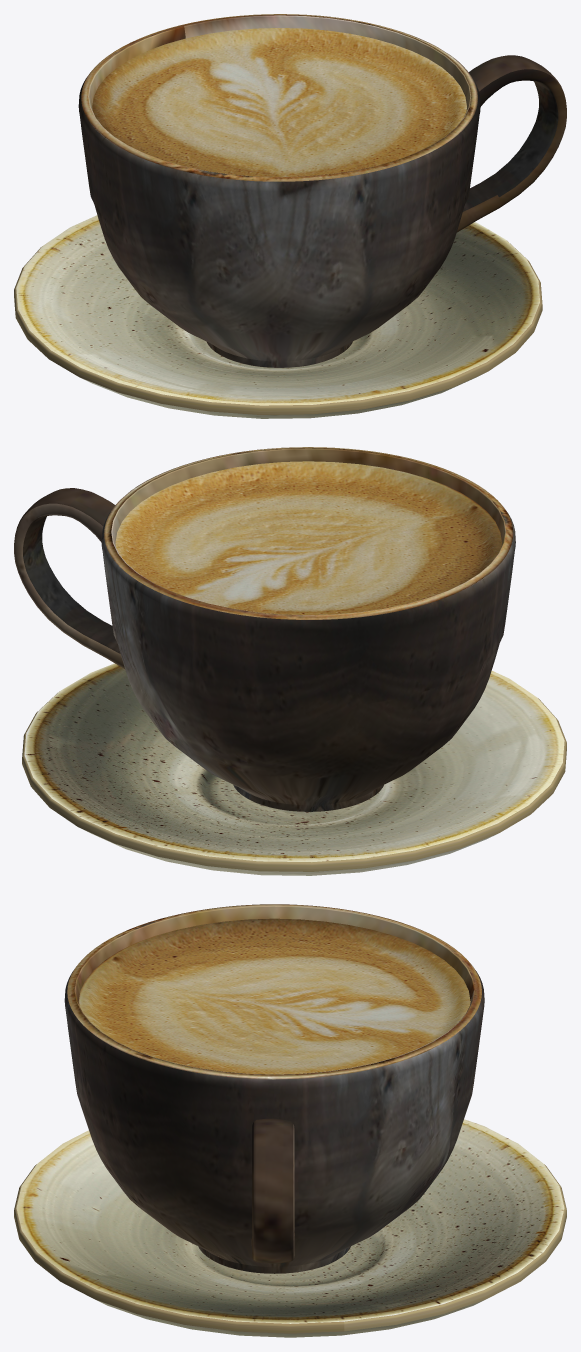
File: latte-sketchfab.glb
3 views of the same model, one above another, from view 1: azimuth 30°, elevation 25°; view 2: azimuth 150°, elevation 25°; view 3: azimuth 270°, elevation 25° (orthographic). The views are drawn at different scales.
Parts seen in each view (by area): view 1: pCylinder5, pCylinder4, AM108_set_10_07; view 2: pCylinder5, pCylinder4, AM108_set_10_07; view 3: pCylinder5, pCylinder4, AM108_set_10_07.
Part boxes in pixels (x1=…): pCylinder5: x1=78, y1=14, x2=566, y2=367; pCylinder4: x1=14, y1=215, x2=542, y2=418; AM108_set_10_07: x1=92, y1=28, x2=466, y2=176; pCylinder5: x1=14, y1=447, x2=515, y2=811; pCylinder4: x1=22, y1=663, x2=566, y2=875; AM108_set_10_07: x1=115, y1=461, x2=501, y2=614; pCylinder5: x1=64, y1=904, x2=484, y2=1273; pCylinder4: x1=14, y1=1119, x2=566, y2=1337; AM108_set_10_07: x1=79, y1=918, x2=470, y2=1074.
Size of the model in its own units: 15.35 by 7.38 by 14.
3 materials, 3 textured.
